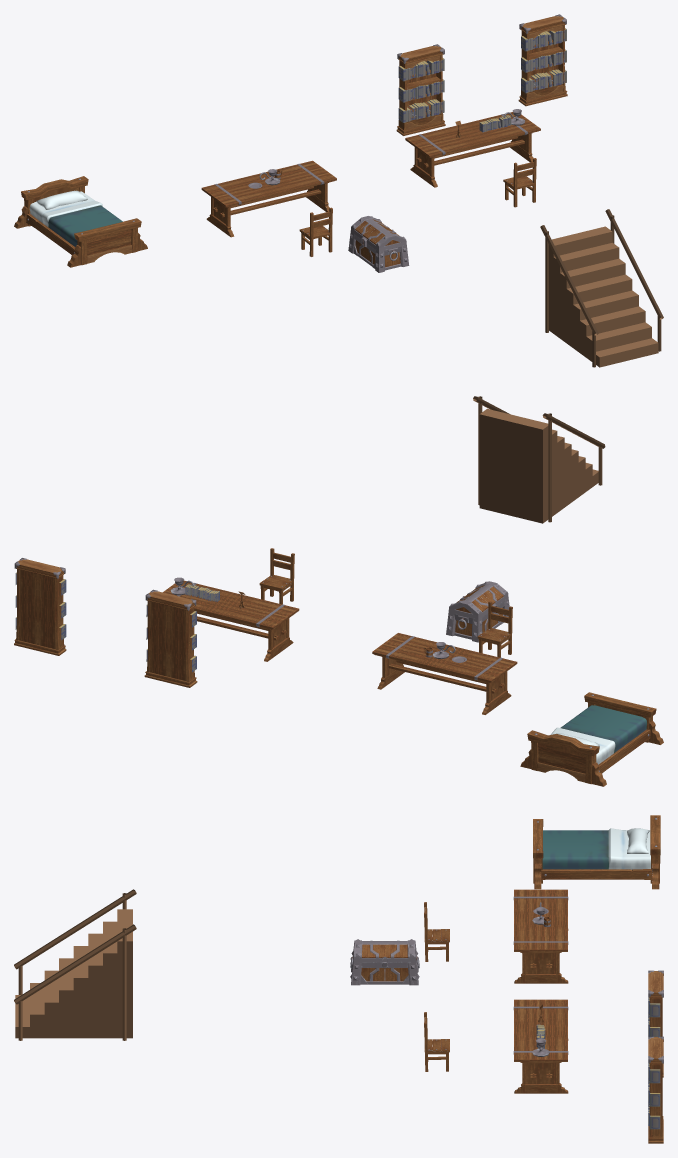
The model's file is realm_crownreach_19_upper.gltf.
3 views of the same model, one above another, from view 1: azimuth 30°, elevation 25°; view 2: azimuth 150°, elevation 25°; view 3: azimuth 270°, elevation 25° (orthographic). The views are drawn at different scales.
Parts seen in each view (by area): view 1: 82100af1b928c00468f69366df486273076c34d42de27ff785a86b896db8, f4b04e3619cf212187b96076e7e940da50275113f8897ecbcd59f5921342 (×2), 9a2512b436b63bb7ea06e287302379ec7cd545afa3634b62d51eac88505a, cb9df46869a74c2b21acdc562e58e1fd0bcaa177f7275e87e50e477c73f4 (×2), f52aa0036ce251ef1eb08d3699186b9705c3883af59782ac743cf0836182 (×6), 974a21d8ae8e0859926ffd9e6f304d80a7c46e7e5ee3150935a76e128408, ddcc3d6e1ffba2575a9ad5c6e02f5f299d918638f3e83151b75ace5729ff (×2); view 2: 82100af1b928c00468f69366df486273076c34d42de27ff785a86b896db8, f4b04e3619cf212187b96076e7e940da50275113f8897ecbcd59f5921342 (×2), cb9df46869a74c2b21acdc562e58e1fd0bcaa177f7275e87e50e477c73f4 (×2), 9a2512b436b63bb7ea06e287302379ec7cd545afa3634b62d51eac88505a, 974a21d8ae8e0859926ffd9e6f304d80a7c46e7e5ee3150935a76e128408, ddcc3d6e1ffba2575a9ad5c6e02f5f299d918638f3e83151b75ace5729ff (×2); view 3: 82100af1b928c00468f69366df486273076c34d42de27ff785a86b896db8, f4b04e3619cf212187b96076e7e940da50275113f8897ecbcd59f5921342 (×2), 9a2512b436b63bb7ea06e287302379ec7cd545afa3634b62d51eac88505a, 974a21d8ae8e0859926ffd9e6f304d80a7c46e7e5ee3150935a76e128408, cb9df46869a74c2b21acdc562e58e1fd0bcaa177f7275e87e50e477c73f4 (×2), ddcc3d6e1ffba2575a9ad5c6e02f5f299d918638f3e83151b75ace5729ff (×2).
Part boxes in pixels (x1,y1,x2,y2): 82100af1b928c00468f69366df486273076c34d42de27ff785a86b896db8: (540, 209, 663, 367); f4b04e3619cf212187b96076e7e940da50275113f8897ecbcd59f5921342 (×2): (201, 112, 540, 237); 9a2512b436b63bb7ea06e287302379ec7cd545afa3634b62d51eac88505a: (14, 176, 147, 267); cb9df46869a74c2b21acdc562e58e1fd0bcaa177f7275e87e50e477c73f4 (×2): (396, 14, 567, 135); f52aa0036ce251ef1eb08d3699186b9705c3883af59782ac743cf0836182 (×6): (398, 28, 566, 122); 974a21d8ae8e0859926ffd9e6f304d80a7c46e7e5ee3150935a76e128408: (348, 216, 409, 272); ddcc3d6e1ffba2575a9ad5c6e02f5f299d918638f3e83151b75ace5729ff (×2): (299, 158, 536, 256); 82100af1b928c00468f69366df486273076c34d42de27ff785a86b896db8: (473, 396, 605, 523); f4b04e3619cf212187b96076e7e940da50275113f8897ecbcd59f5921342 (×2): (163, 580, 517, 714); cb9df46869a74c2b21acdc562e58e1fd0bcaa177f7275e87e50e477c73f4 (×2): (14, 558, 197, 687); 9a2512b436b63bb7ea06e287302379ec7cd545afa3634b62d51eac88505a: (520, 692, 663, 786); 974a21d8ae8e0859926ffd9e6f304d80a7c46e7e5ee3150935a76e128408: (446, 581, 509, 642); ddcc3d6e1ffba2575a9ad5c6e02f5f299d918638f3e83151b75ace5729ff (×2): (259, 548, 512, 657); 82100af1b928c00468f69366df486273076c34d42de27ff785a86b896db8: (14, 889, 136, 1040); f4b04e3619cf212187b96076e7e940da50275113f8897ecbcd59f5921342 (×2): (513, 889, 568, 1093); 9a2512b436b63bb7ea06e287302379ec7cd545afa3634b62d51eac88505a: (533, 815, 660, 889); 974a21d8ae8e0859926ffd9e6f304d80a7c46e7e5ee3150935a76e128408: (350, 939, 419, 985); cb9df46869a74c2b21acdc562e58e1fd0bcaa177f7275e87e50e477c73f4 (×2): (648, 970, 663, 1143); ddcc3d6e1ffba2575a9ad5c6e02f5f299d918638f3e83151b75ace5729ff (×2): (424, 902, 449, 1071).
Size of the model in its own units: 13.47 by 2.44 by 12.49.
18 materials, 17 textured.
